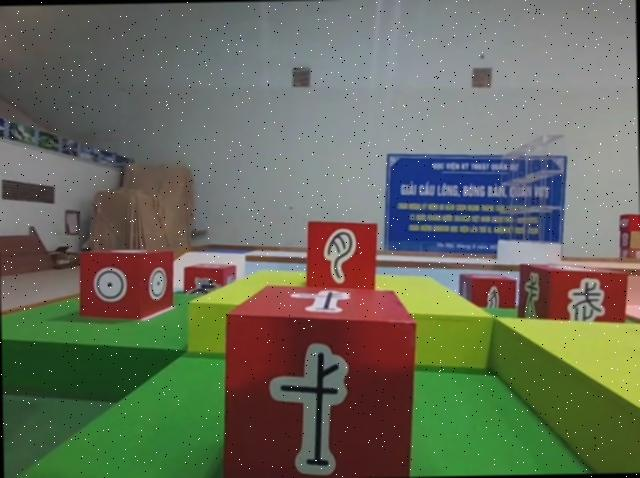R1: (181, 259, 238, 299)
R2 Fake: (518, 261, 630, 325), (305, 219, 379, 291)
R2 Real: (219, 280, 420, 478), (79, 246, 175, 320), (454, 270, 519, 318)
